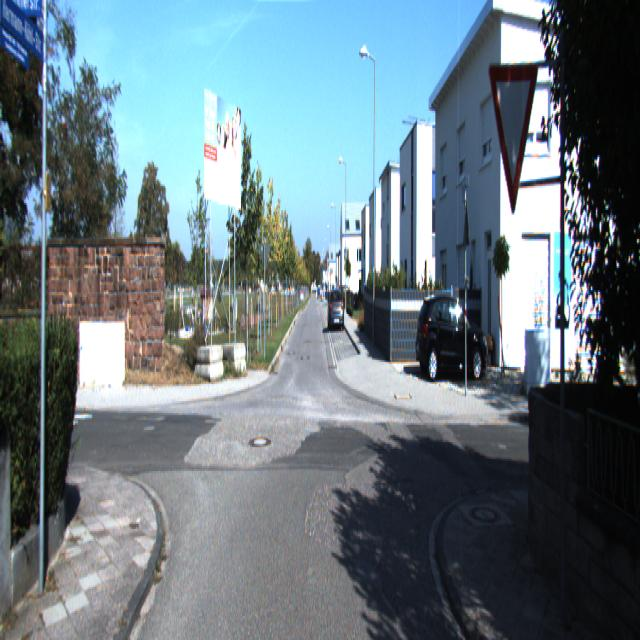Car: (414, 284, 489, 382), (328, 287, 344, 330)
